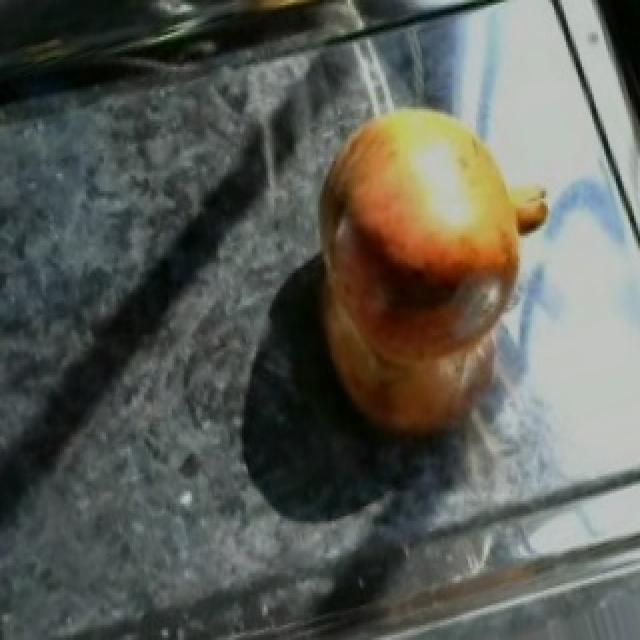fruit: (292, 69, 570, 340)
